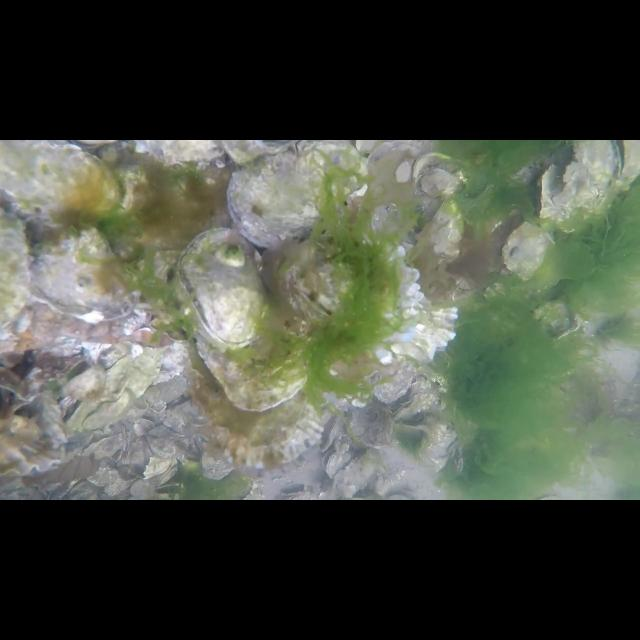Oyster-Closed: (288, 239, 460, 359), (198, 348, 324, 466), (195, 298, 318, 414), (23, 229, 137, 319), (0, 140, 122, 217), (64, 346, 162, 436), (540, 140, 616, 224), (420, 195, 464, 263), (0, 433, 66, 475), (408, 150, 464, 198), (348, 393, 394, 449), (502, 222, 550, 274), (331, 450, 379, 498), (372, 356, 416, 402), (202, 438, 234, 480), (321, 412, 344, 452)
Oyster-Open: (227, 141, 359, 249), (180, 226, 270, 350), (612, 140, 640, 192), (321, 447, 354, 479), (392, 394, 421, 422), (398, 413, 428, 431)
